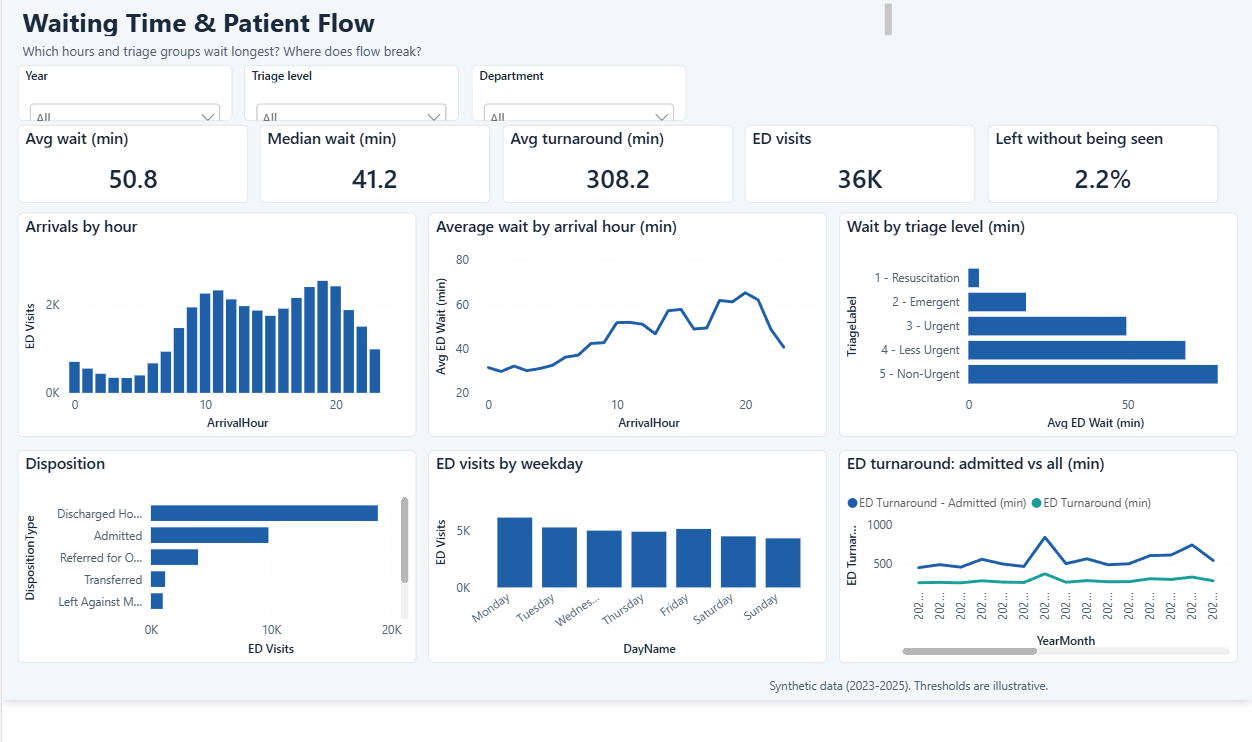

What the dashboard file says about the page in this screenshot:
{"tool":"powerbi","page":{"name":"Waiting Time & Patient Flow","canvas":[1280,720],"ordinal":4},"visuals":[{"type":"textbox","box":[16,2,900,44],"z":100},{"type":"textbox","box":[16,42,1240,30],"z":200},{"type":"textbox","box":[780,690,484,30],"z":300},{"type":"slicer","title":"Year","fields":{"Values":["DimDate.Year"]},"box":[16,70,220,58],"z":400},{"type":"slicer","title":"Triage level","fields":{"Values":["FactEmergencyVisits.TriageLabel"]},"box":[248,70,220,58],"z":500},{"type":"slicer","title":"Department","fields":{"Values":["DimDepartments.DepartmentName"]},"box":[480,70,220,58],"z":600},{"type":"card","title":"Avg wait (min)","fields":{"Values":["_Measures.Avg ED Wait (min)"]},"box":[16,132,236,80],"z":700},{"type":"card","title":"Median wait (min)","fields":{"Values":["_Measures.Median ED Wait (min)"]},"box":[264,132,236,80],"z":800},{"type":"card","title":"Avg turnaround (min)","fields":{"Values":["_Measures.ED Turnaround (min)"]},"box":[512,132,236,80],"z":900},{"type":"card","title":"ED visits","fields":{"Values":["_Measures.ED Visits"]},"box":[760,132,236,80],"z":1000},{"type":"card","title":"Left without being seen","fields":{"Values":["_Measures.LWBS Rate"]},"box":[1008,132,236,80],"z":1100},{"type":"clusteredColumnChart","title":"Arrivals by hour","fields":{"Category":["FactEmergencyVisits.ArrivalHour"],"Y":["_Measures.ED Visits"]},"box":[16,222,408,230],"z":1200},{"type":"lineChart","title":"Average wait by arrival hour (min)","fields":{"Category":["FactEmergencyVisits.ArrivalHour"],"Y":["_Measures.Avg ED Wait (min)"]},"box":[436,222,408,230],"z":1300},{"type":"clusteredBarChart","title":"Wait by triage level (min)","fields":{"Category":["FactEmergencyVisits.TriageLabel"],"Y":["_Measures.Avg ED Wait (min)"]},"box":[856,222,408,230],"z":1400},{"type":"clusteredBarChart","title":"Disposition","fields":{"Category":["FactEmergencyVisits.DispositionType"],"Y":["_Measures.ED Visits"]},"box":[16,464,408,218],"z":1500},{"type":"clusteredColumnChart","title":"ED visits by weekday","fields":{"Category":["DimDate.DayName"],"Y":["_Measures.ED Visits"]},"box":[436,464,408,218],"z":1600},{"type":"lineChart","title":"ED turnaround: admitted vs all (min)","fields":{"Category":["DimDate.YearMonth"],"Y":["_Measures.ED Turnaround - Admitted (min)","_Measures.ED Turnaround (min)"]},"box":[856,464,408,218],"z":1700}]}

Visuals, with their boxes on the page's 1280x720 design canvas (x1, y1, x2, y2). These are canvas units, not pixel positions in the 1252x742 screenshot, which may show the page scaled, cropped or inside an application window:
textbox: {"x1": 16, "y1": 2, "x2": 916, "y2": 46}
textbox: {"x1": 16, "y1": 42, "x2": 1256, "y2": 72}
textbox: {"x1": 780, "y1": 690, "x2": 1264, "y2": 720}
"Year" slicer: {"x1": 16, "y1": 70, "x2": 236, "y2": 128}
"Triage level" slicer: {"x1": 248, "y1": 70, "x2": 468, "y2": 128}
"Department" slicer: {"x1": 480, "y1": 70, "x2": 700, "y2": 128}
"Avg wait (min)" card: {"x1": 16, "y1": 132, "x2": 252, "y2": 212}
"Median wait (min)" card: {"x1": 264, "y1": 132, "x2": 500, "y2": 212}
"Avg turnaround (min)" card: {"x1": 512, "y1": 132, "x2": 748, "y2": 212}
"ED visits" card: {"x1": 760, "y1": 132, "x2": 996, "y2": 212}
"Left without being seen" card: {"x1": 1008, "y1": 132, "x2": 1244, "y2": 212}
"Arrivals by hour" clusteredColumnChart: {"x1": 16, "y1": 222, "x2": 424, "y2": 452}
"Average wait by arrival hour (min)" lineChart: {"x1": 436, "y1": 222, "x2": 844, "y2": 452}
"Wait by triage level (min)" clusteredBarChart: {"x1": 856, "y1": 222, "x2": 1264, "y2": 452}
"Disposition" clusteredBarChart: {"x1": 16, "y1": 464, "x2": 424, "y2": 682}
"ED visits by weekday" clusteredColumnChart: {"x1": 436, "y1": 464, "x2": 844, "y2": 682}
"ED turnaround: admitted vs all (min)" lineChart: {"x1": 856, "y1": 464, "x2": 1264, "y2": 682}
